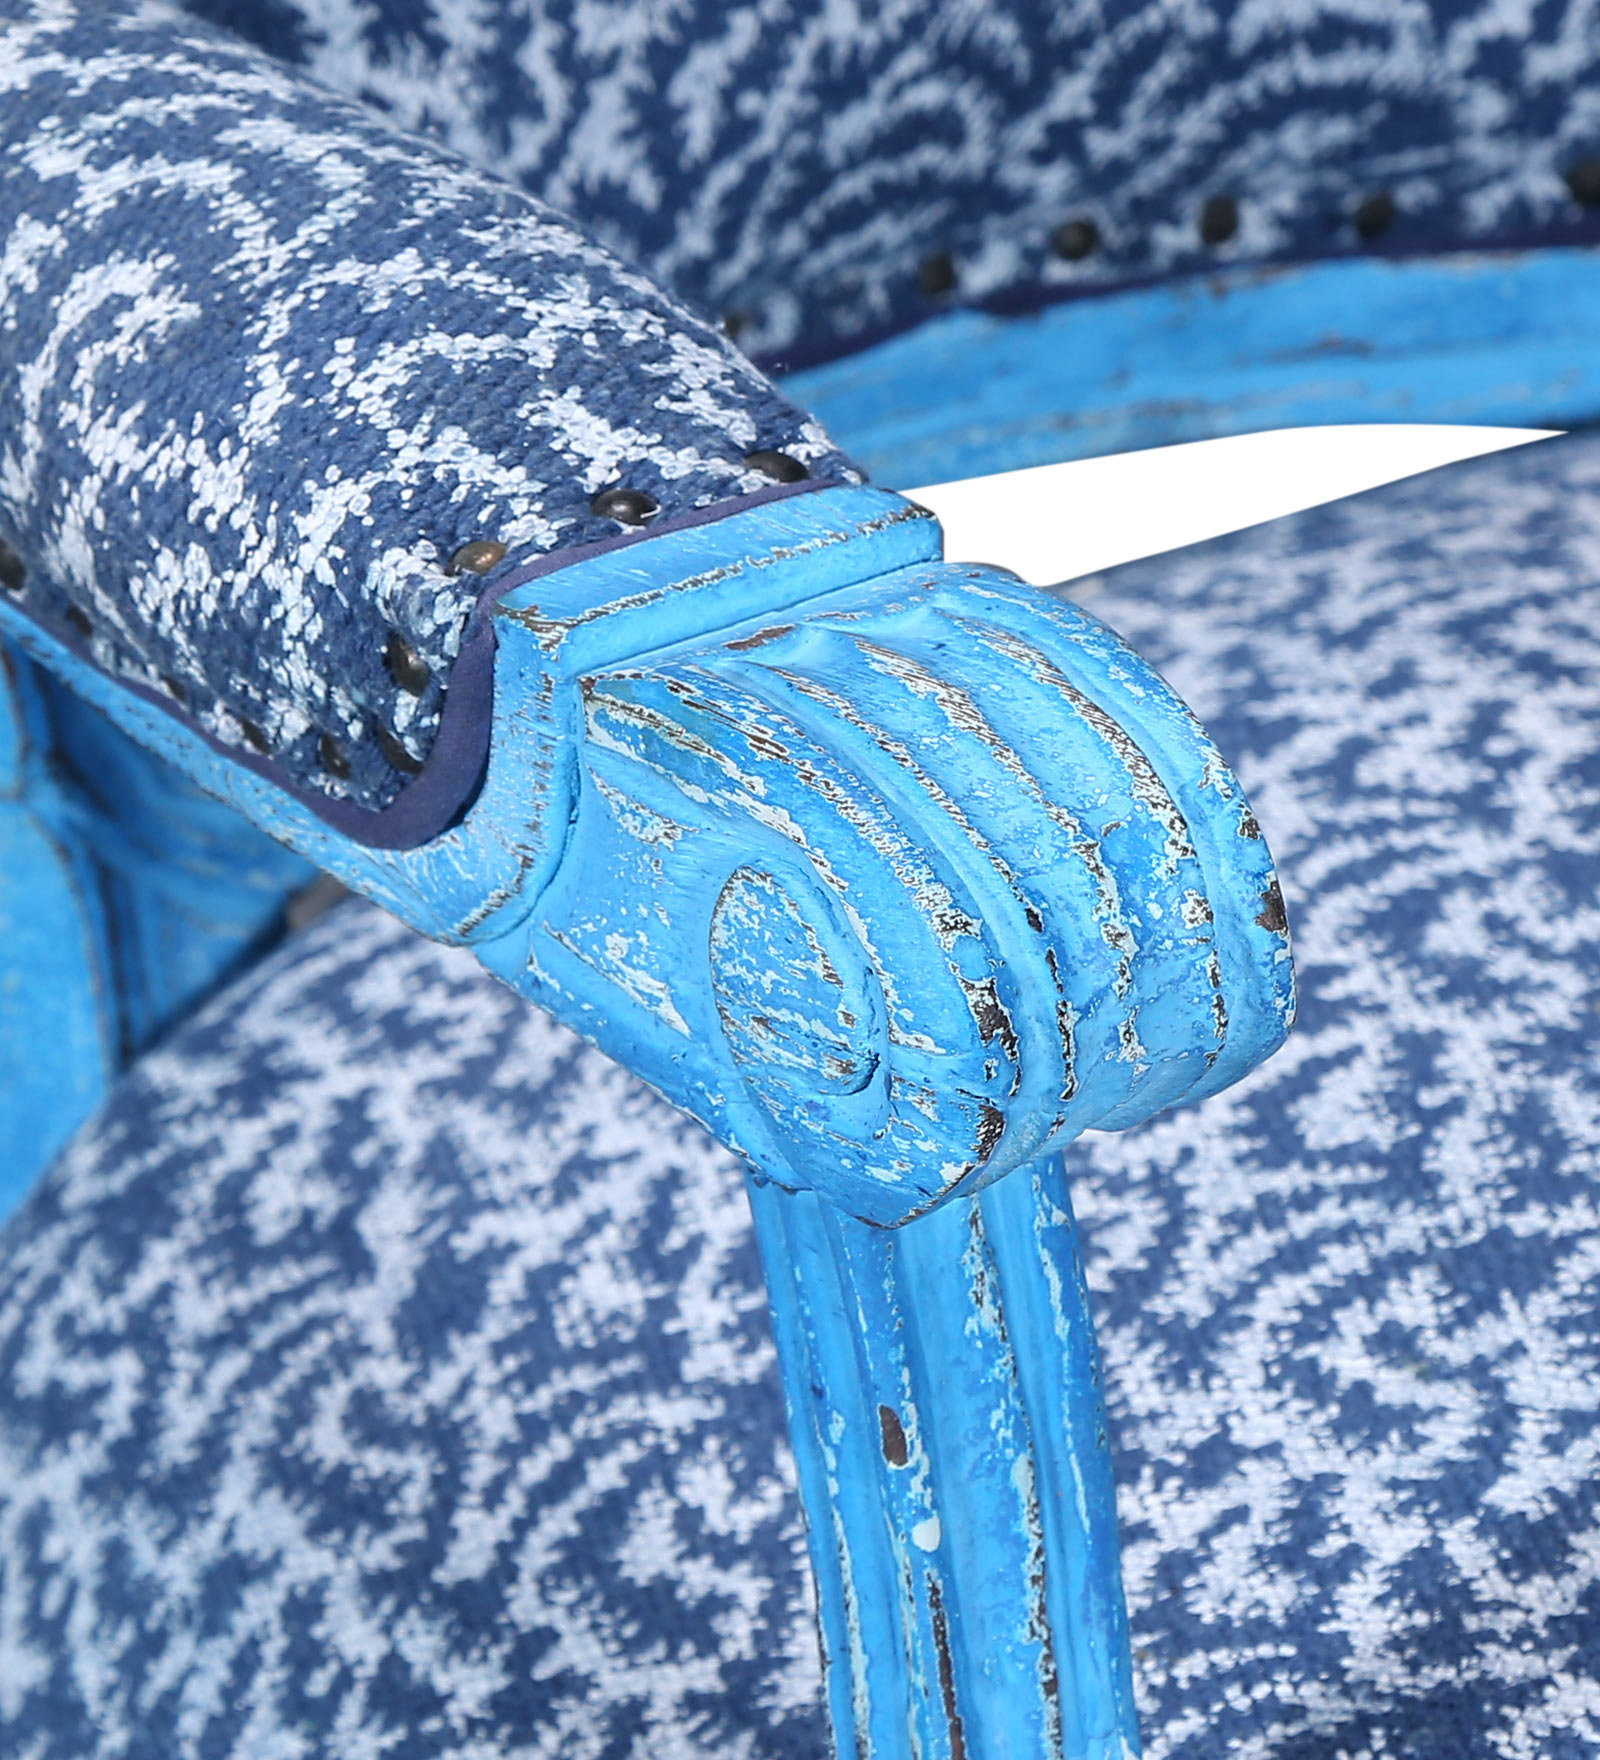Elton Arm Chair in Blue Colour by Bohemiana: (9, 8, 1600, 1729)
